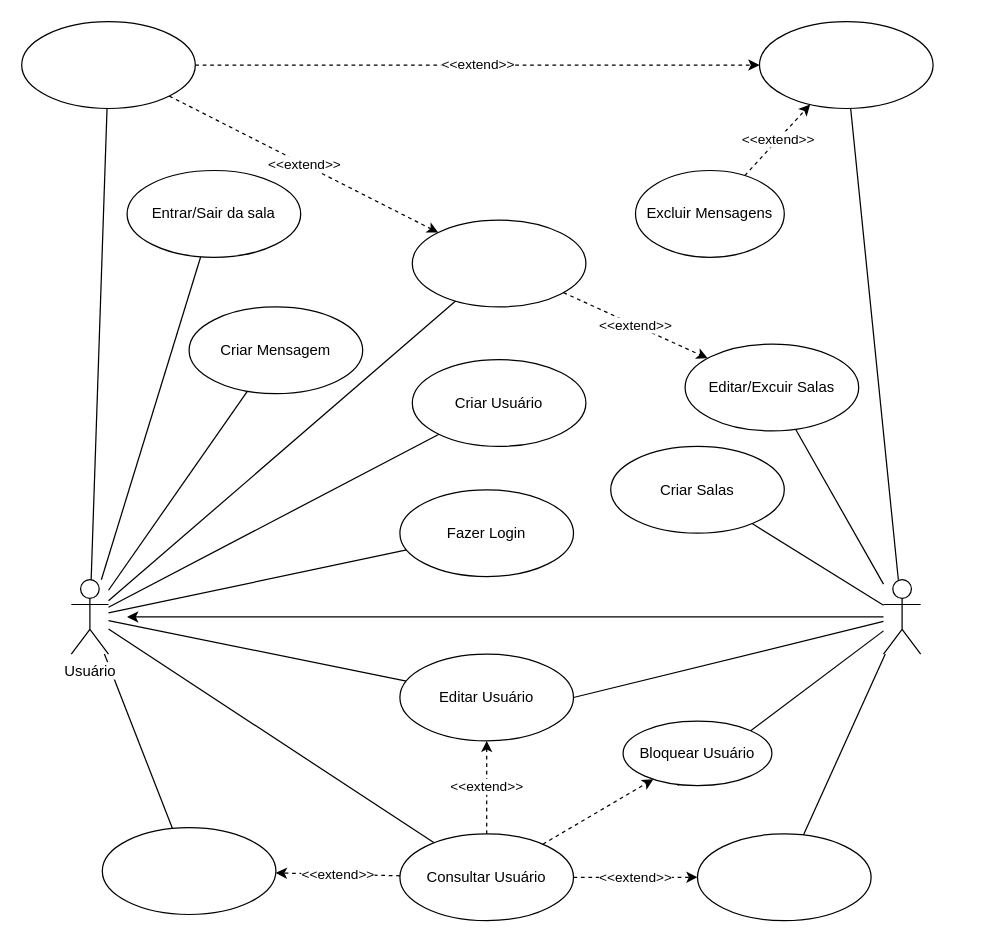
Some shapes in this 997 by 942 pixel diagram are drawn without their labels. Here are the shapes that lost their labels. From the top down, the box of each, then its label:
(20, 20, 195, 108): Consultar Mensagens
(758, 20, 933, 108): Moderar Mensagens
(411, 219, 586, 307): Consultar Salas do Chat
(882, 578, 921, 654): Administrador do Chat
(101, 826, 276, 914): Ativar/ Inativar Conta
(696, 833, 871, 921): Excluir Usuários
